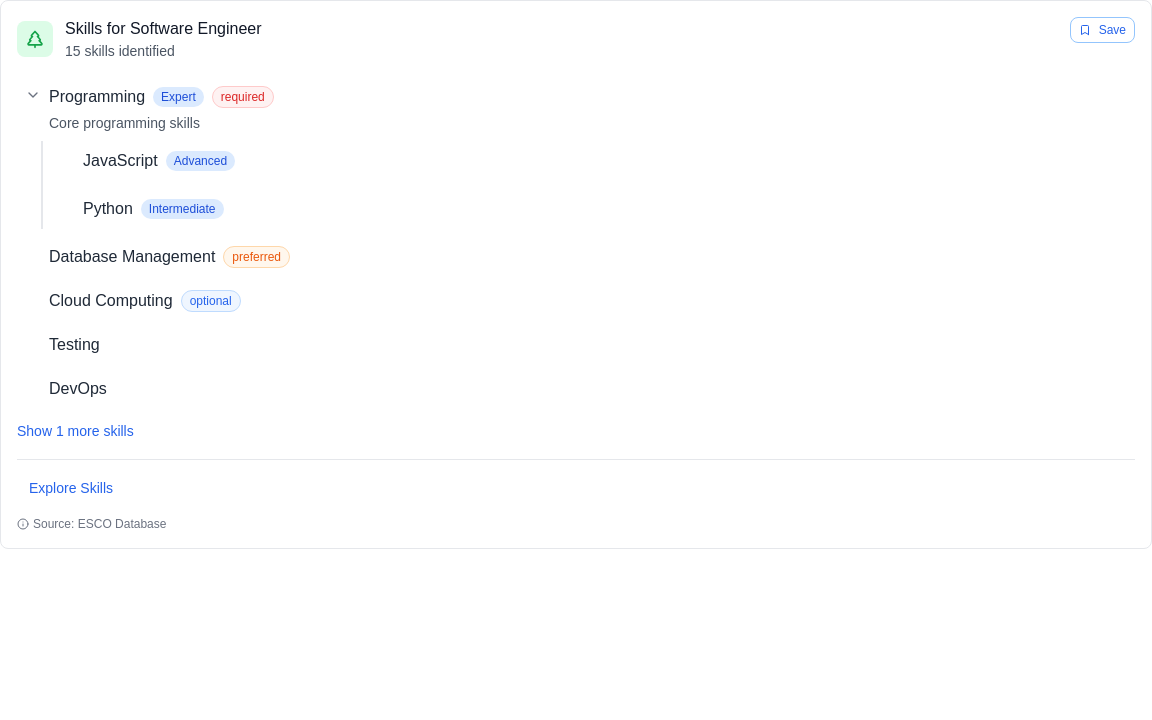
SkillTreeMessage › shows all skills when "Show more" is clicked
This screenshot has width=1152, height=720.
Click the button "Show 1 more skills": (75, 431) [17, 421, 134, 441]
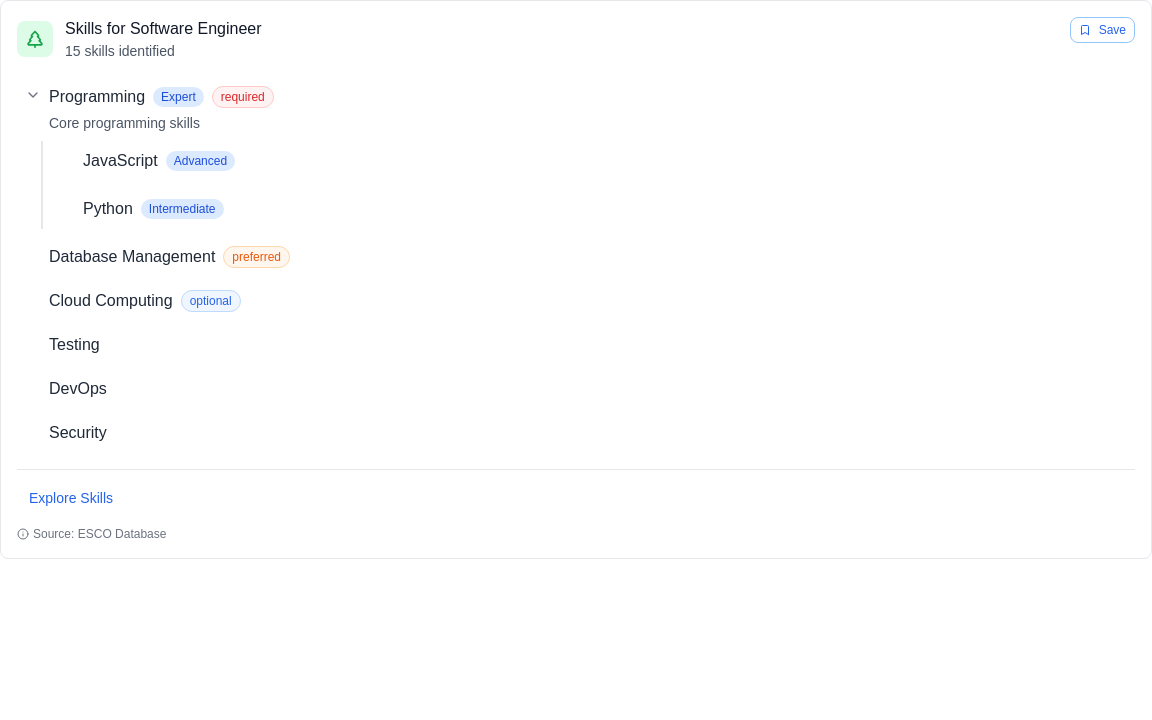
Expected: the text "Security" is shown, [49, 421, 107, 445]
Expected: the button "Show 1 more skills" is gone
